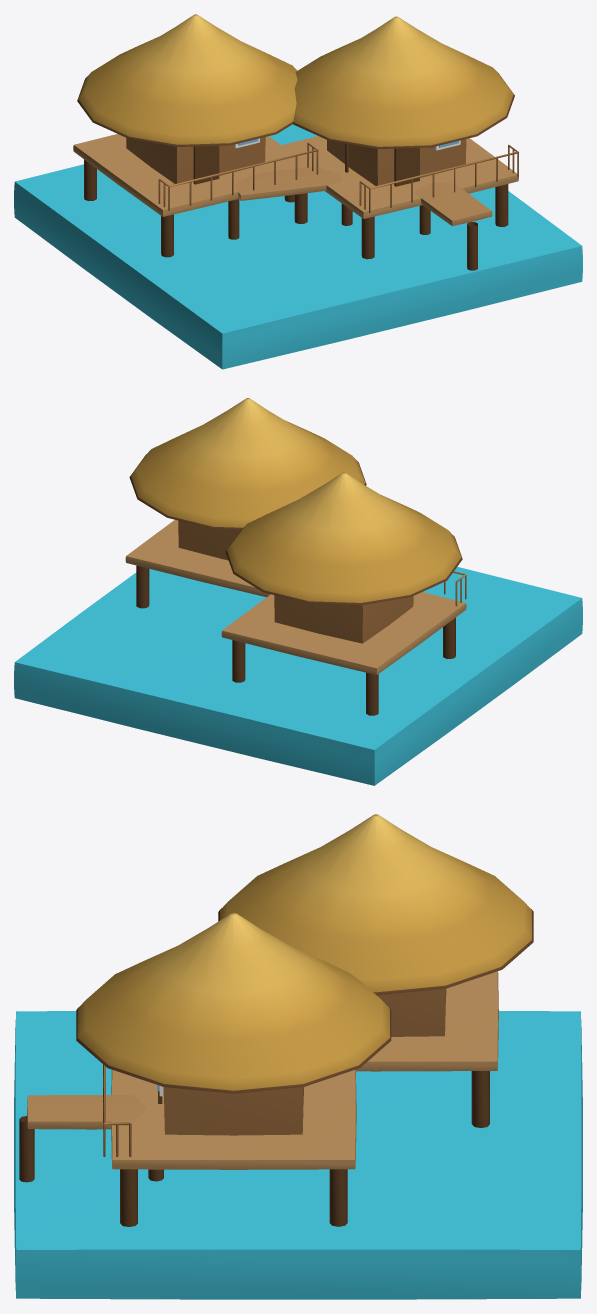
File: OverwaterBungalow_L3.obj
The picture shows the model from 3 angles, top to bottom: view 1: azimuth 30°, elevation 25°; view 2: azimuth 150°, elevation 25°; view 3: azimuth 270°, elevation 25°; orthographic projection. The views are drawn at different scales.
Parts seen in each view (by area): view 1: OverwaterBungalow_L3; view 2: OverwaterBungalow_L3; view 3: OverwaterBungalow_L3.
Part boxes in pixels (left/top/right/bottom): OverwaterBungalow_L3: left=14, top=14, right=582, bottom=369; OverwaterBungalow_L3: left=14, top=398, right=582, bottom=785; OverwaterBungalow_L3: left=14, top=814, right=582, bottom=1299.
Size of the model in its own units: 4.4 by 2.7 by 4.4.
1 material, 1 textured.
